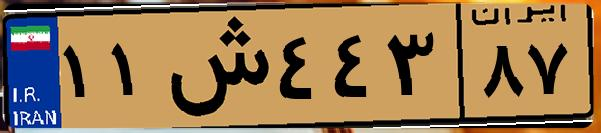1: (57, 26, 110, 100), (110, 28, 158, 98)
3: (385, 28, 445, 110)
4: (270, 28, 330, 110), (330, 28, 385, 110)
7: (525, 38, 570, 115)
8: (475, 38, 525, 113)
ش: (158, 12, 270, 120)
